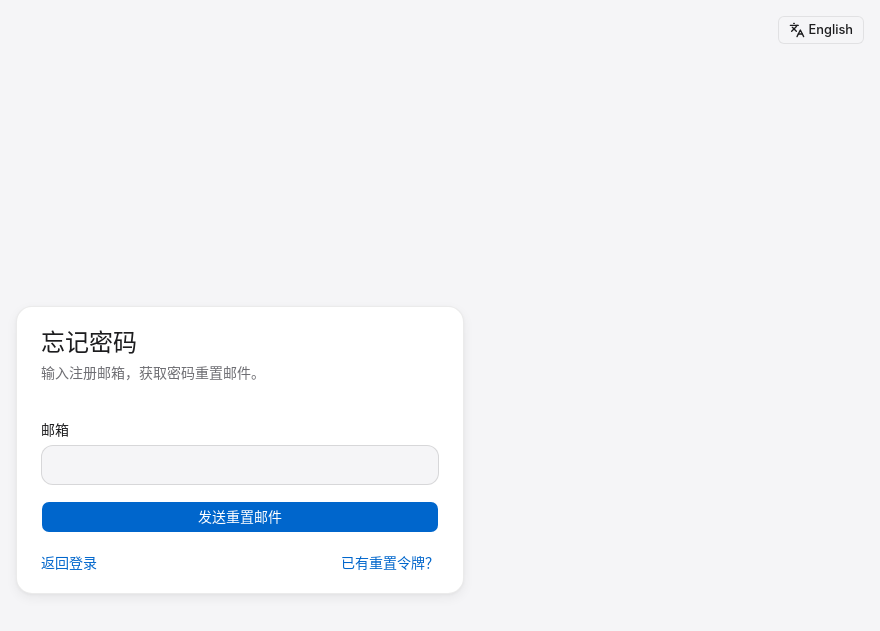
Test: PasswordRecoveryPage › uses a neutral acknowledgement for a recovery request through the BFF
Type "unknown@example.com" into the field labelled "邮箱".
click(240, 465); type("unknown@example.com")  # box [41, 445, 439, 485]
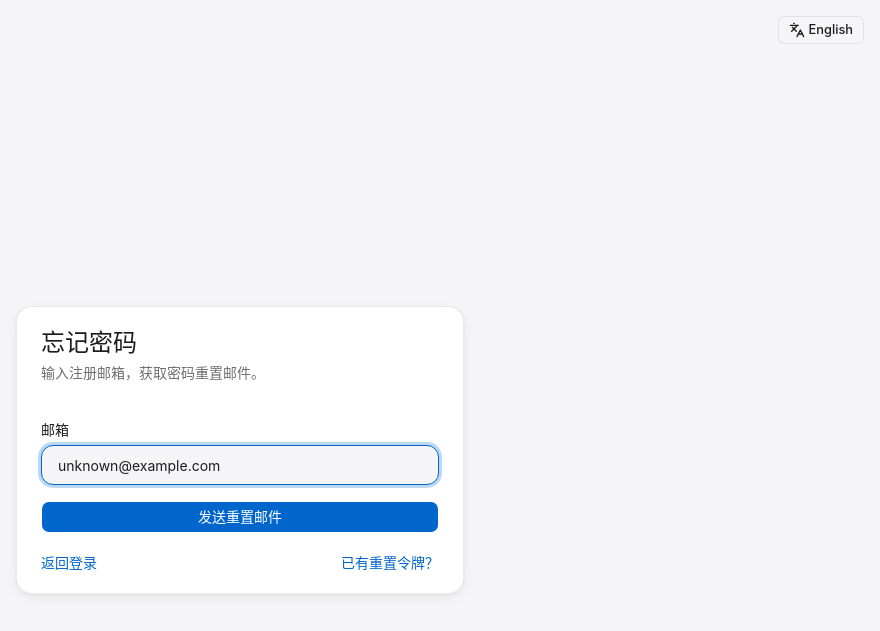
Click the button "发送重置邮件".
click(240, 517)  # box [41, 501, 439, 533]
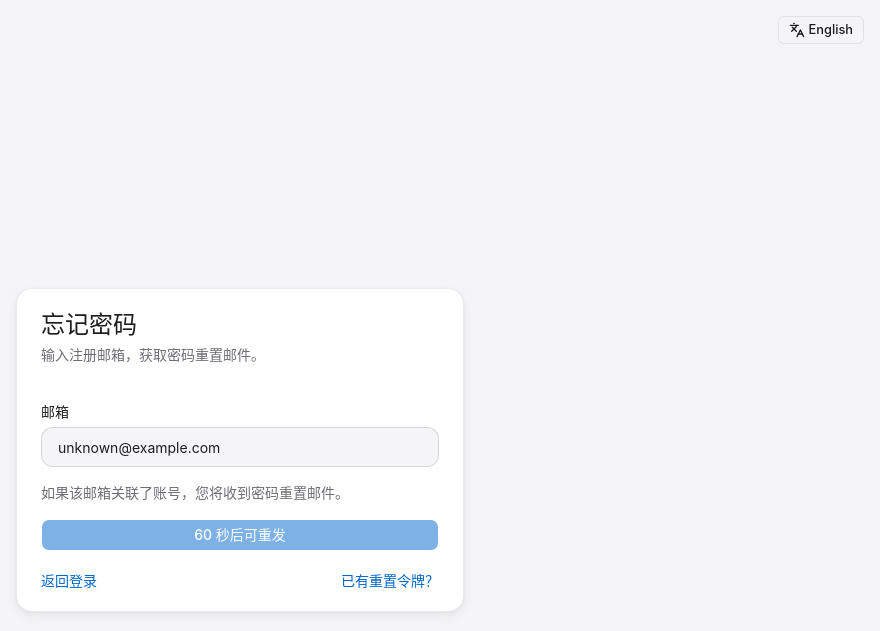
expect the button "60 秒后可重发" is disabled: met, box [41, 519, 439, 551]
